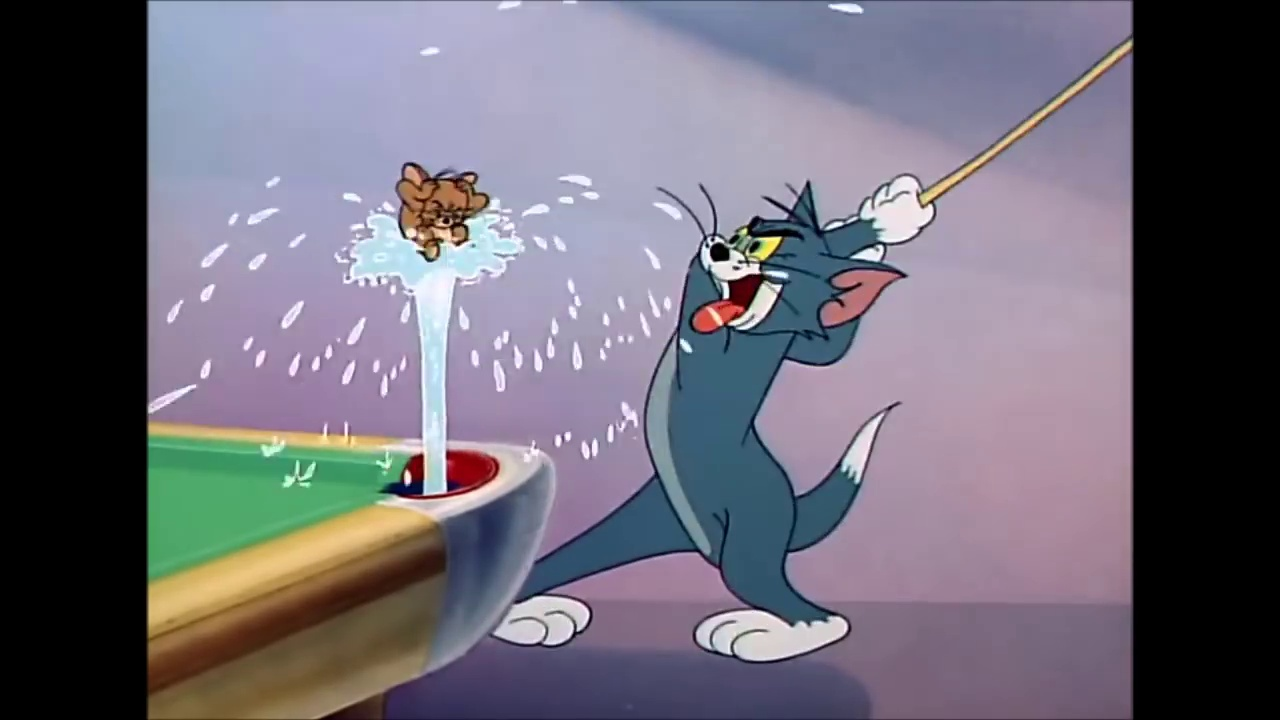sad: (429, 200, 465, 227)
